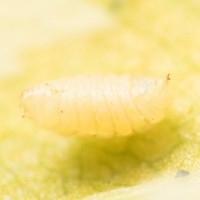insect: (21, 76, 168, 136), (166, 73, 170, 79)
